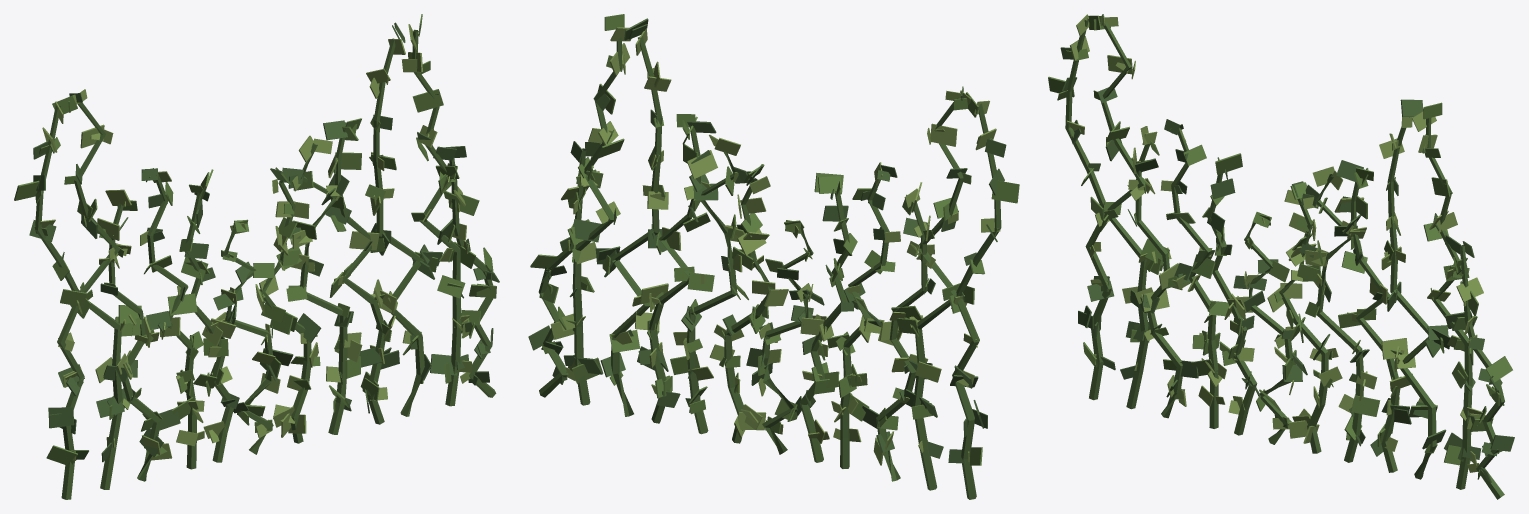
The model's file is VN_WallDense.glb.
The picture shows the model from 3 angles, left to right: view 1: azimuth 30°, elevation 25°; view 2: azimuth 150°, elevation 25°; view 3: azimuth 330°, elevation 25°; orthographic projection. The views are drawn at different scales.
Parts seen in each view (by area): view 1: VN_WallDense; view 2: VN_WallDense; view 3: VN_WallDense.
Boxes of the visible parts, x1=… form: VN_WallDense: x1=14, y1=14, x2=499, y2=499; VN_WallDense: x1=528, y1=14, x2=1019, y2=499; VN_WallDense: x1=1048, y1=14, x2=1514, y2=499.
Bounding box in the file's own units: 4.27 × 3.44 × 0.2916.
